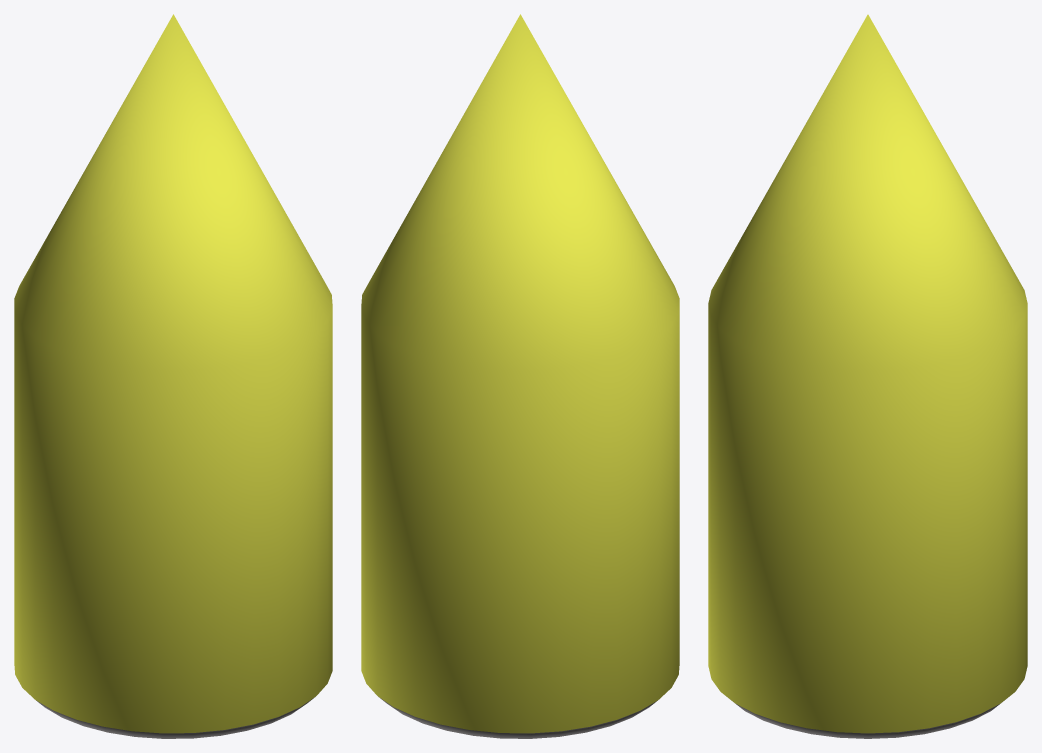
The model's file is basicbullet.fbx.
The picture shows the model from 3 angles, left to right: view 1: azimuth 30°, elevation 25°; view 2: azimuth 150°, elevation 25°; view 3: azimuth 270°, elevation 25°; orthographic projection.
Visible parts, largest first — view 1: Cone; view 2: Cone; view 3: Cone.
Part boxes in pixels (<box>): Cone: <box>14,14,332,738</box>; Cone: <box>361,14,679,738</box>; Cone: <box>708,14,1027,738</box>.
Size of the model in its own units: 5 by 11.44 by 5.
